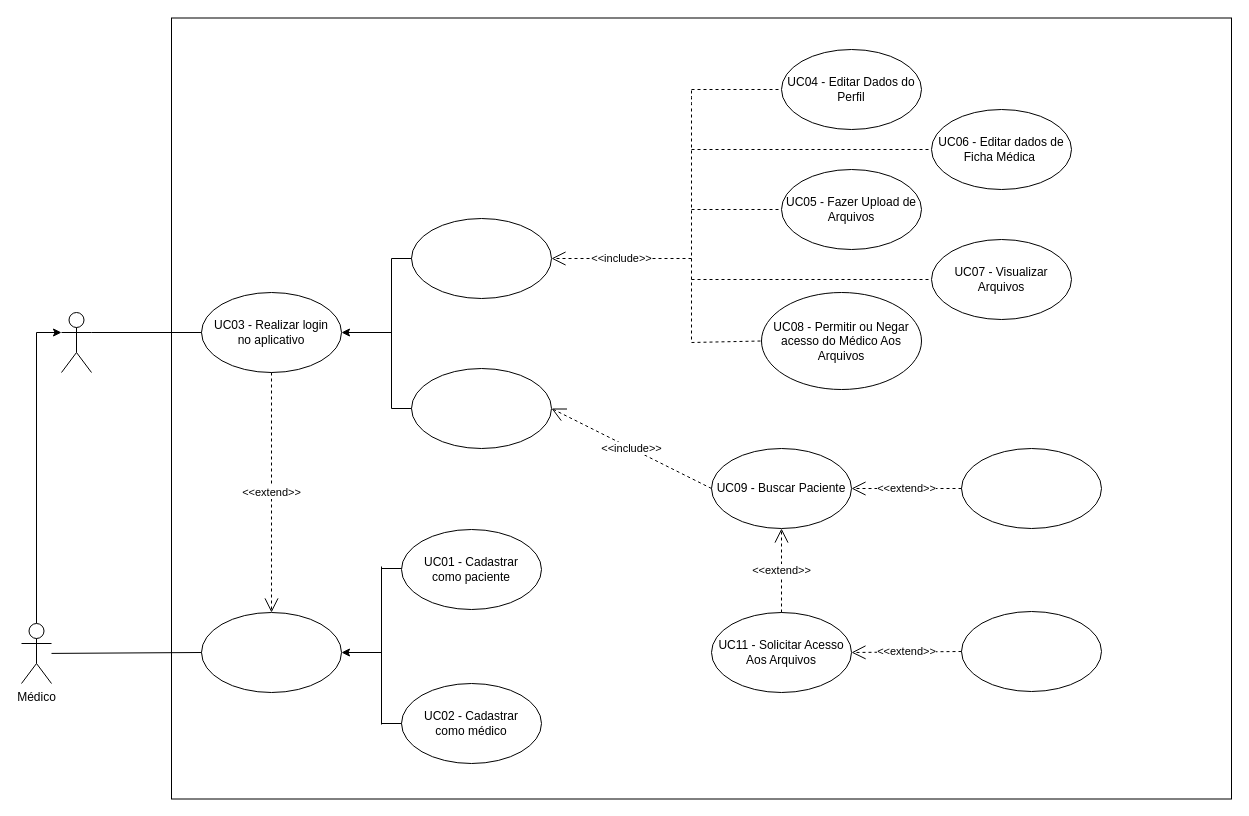
Image size: 1249x816. Some labels were removed from this diagram. The shapes that lost their labels are listed below. From the top down, each one's centre as x and y in pixels, then its label:
(x=481, y=258): Login como paciente
(x=76, y=342): Paciente
(x=481, y=408): Login como médico
(x=1031, y=488): UC10 - Visualizar Ficha Médica do Paciente
(x=271, y=652): Cadastrar como usuário
(x=1031, y=651): UC12 - Visualizar Arquivos do Paciente
